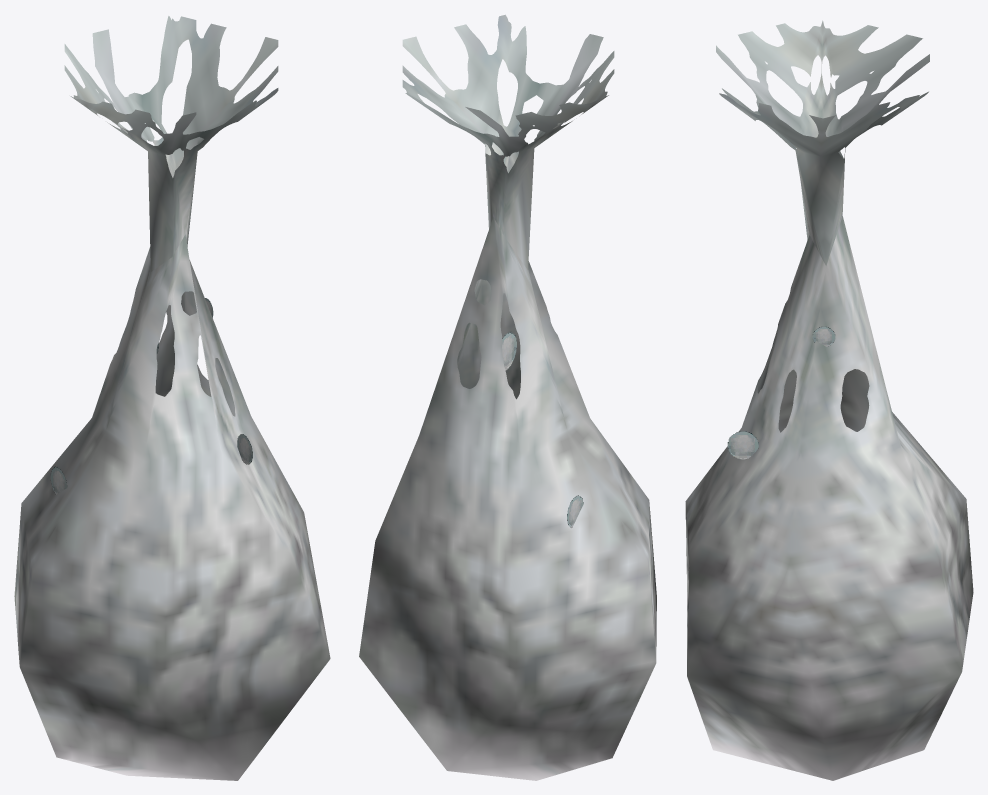
Rendered from cavekoboldspidereggssack.obj.
3 views of the same model, side by side, from view 1: azimuth 30°, elevation 25°; view 2: azimuth 150°, elevation 25°; view 3: azimuth 270°, elevation 25° (orthographic).
Parts seen in each view (by area): view 1: Geoset0, Geoset1; view 2: Geoset0, Geoset1; view 3: Geoset0, Geoset1.
Part boxes in pixels (x1,y1,x2,y2): Geoset0: [14, 16, 330, 780]; Geoset1: [50, 298, 252, 494]; Geoset0: [359, 14, 656, 780]; Geoset1: [502, 332, 583, 527]; Geoset0: [685, 20, 973, 780]; Geoset1: [727, 326, 835, 459].
Bounding box in the file's own units: 1.32 × 3.12 × 1.15.
Materials: 2 (2 with a texture image).
